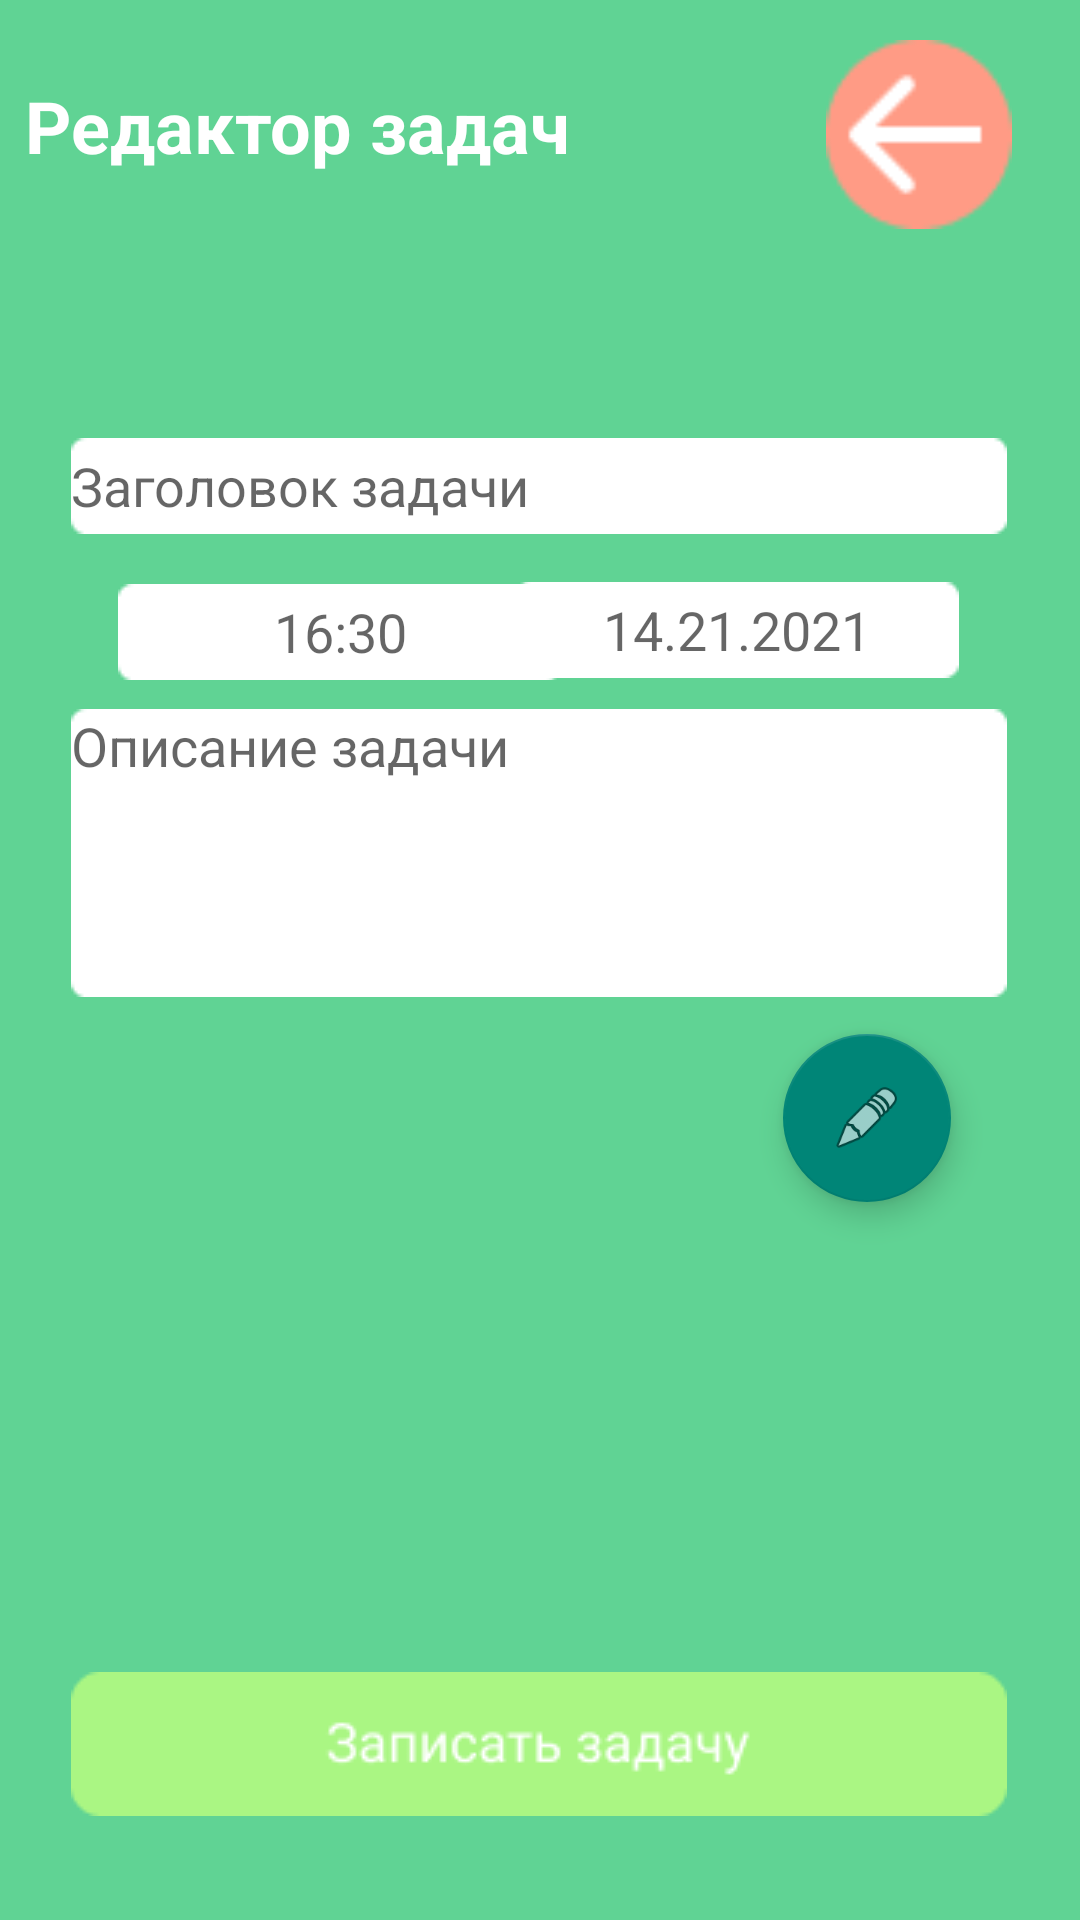

Point at icon controls on the screen. Image size 1080w x 1920h, points as (x=x, y=y).
backbutton: (x=919, y=134)
edit: (x=867, y=1118)
